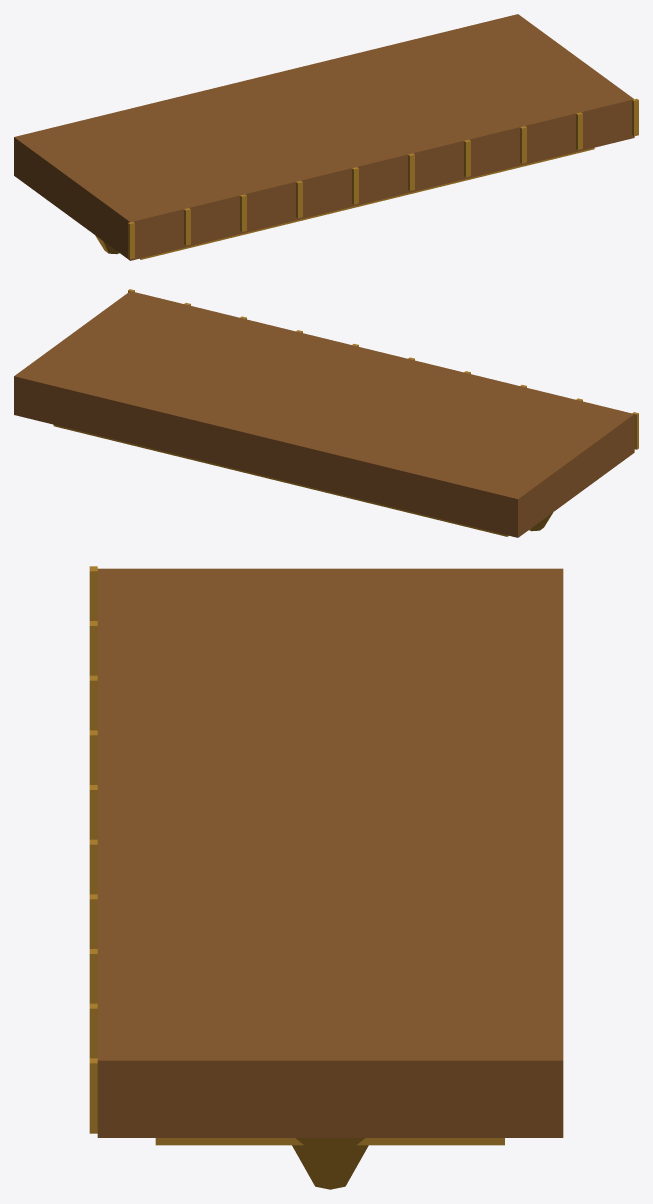
File: mover.glb
3 renders of one model, top to bottom at view 1: azimuth 30°, elevation 25°; view 2: azimuth 150°, elevation 25°; view 3: azimuth 270°, elevation 25°, orthographic. The views are drawn at different scales.
Visible parts, largest first — view 1: Model; view 2: Model; view 3: Model.
Boxes of the visible parts, box(x1,y1,x2,y2) form: Model: box(14, 14, 638, 260); Model: box(14, 289, 638, 537); Model: box(89, 566, 563, 1189).
Size of the model in its own units: 3.03 by 0.46 by 1.22.
1 material, 1 textured.
